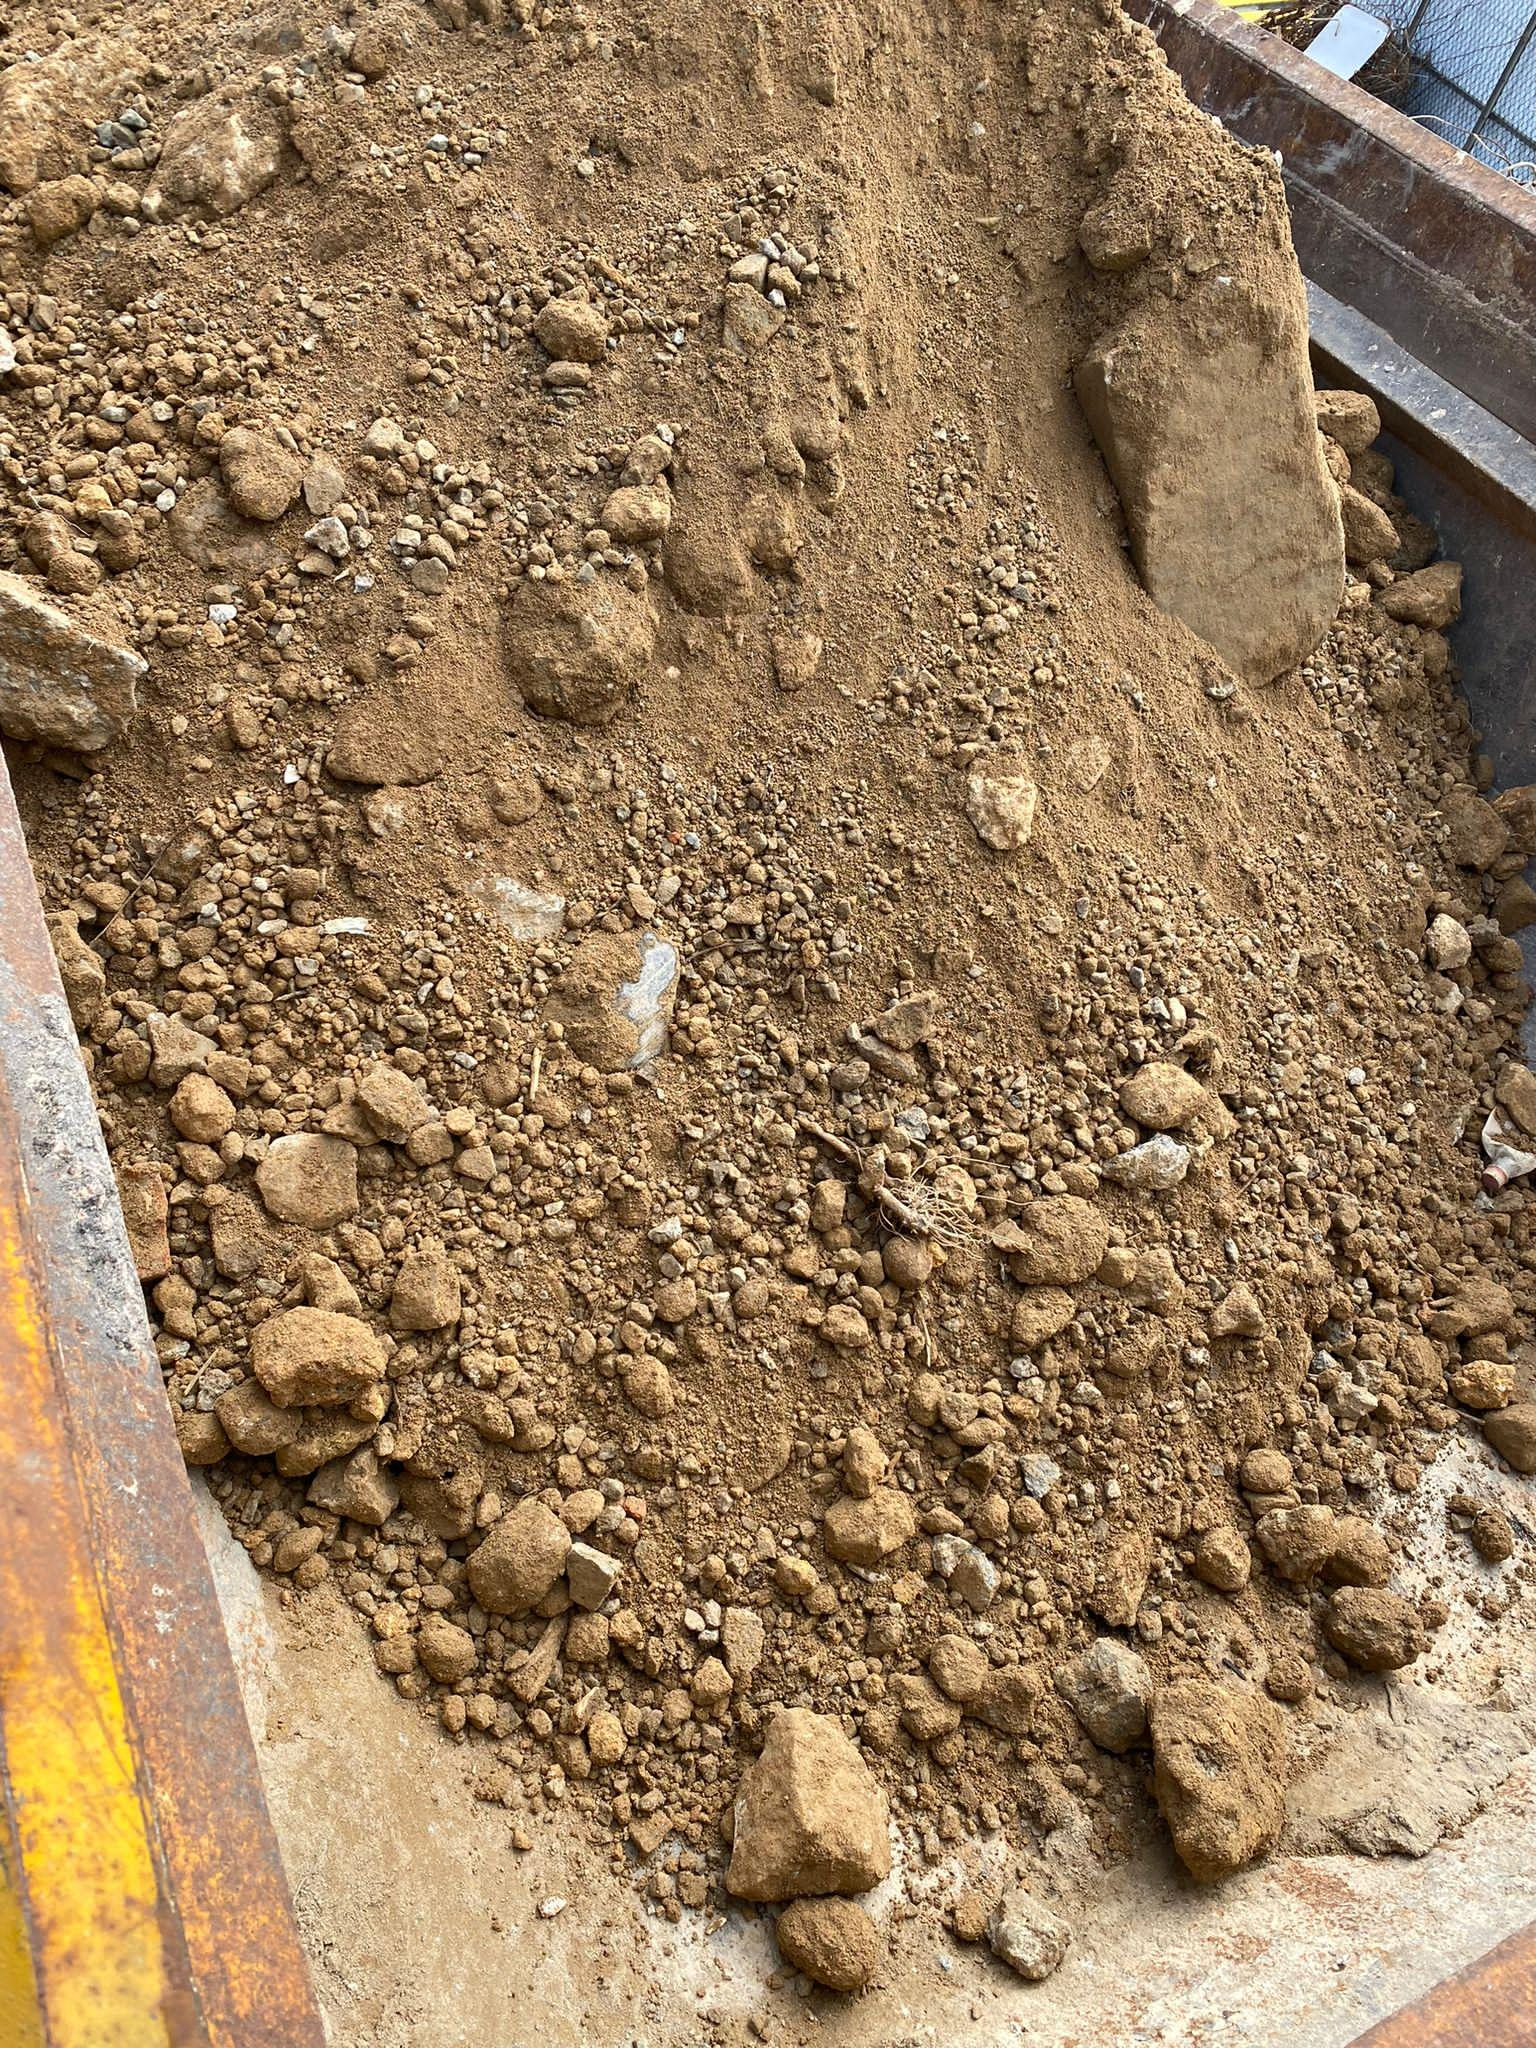dirt: (2, 1, 1532, 2042)
stone: (723, 1705, 892, 1902), (1146, 1673, 1292, 1884), (497, 573, 659, 726), (142, 75, 290, 220), (248, 1303, 388, 1409), (464, 1494, 571, 1616), (774, 1894, 884, 1991), (254, 1129, 359, 1227), (216, 423, 301, 522), (532, 295, 609, 362)
